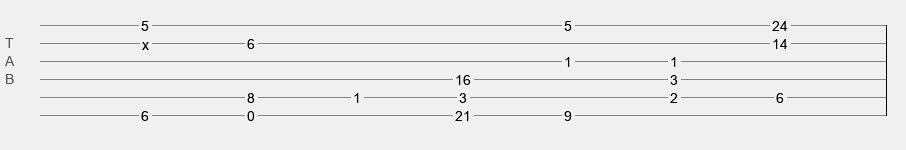0: (247, 108, 255, 118)
1: (353, 90, 361, 100), (564, 54, 572, 64), (670, 54, 678, 64)
14: (772, 36, 788, 46)
16: (455, 72, 471, 82)
2: (670, 90, 678, 100)
21: (455, 108, 471, 118)
24: (772, 18, 788, 28)
3: (459, 90, 467, 100), (670, 72, 678, 82)
5: (141, 18, 149, 28), (564, 18, 572, 28)
6: (141, 108, 149, 118), (247, 36, 255, 46), (776, 90, 784, 100)
8: (247, 90, 255, 100)
9: (564, 108, 572, 118)
x: (142, 37, 149, 45)
